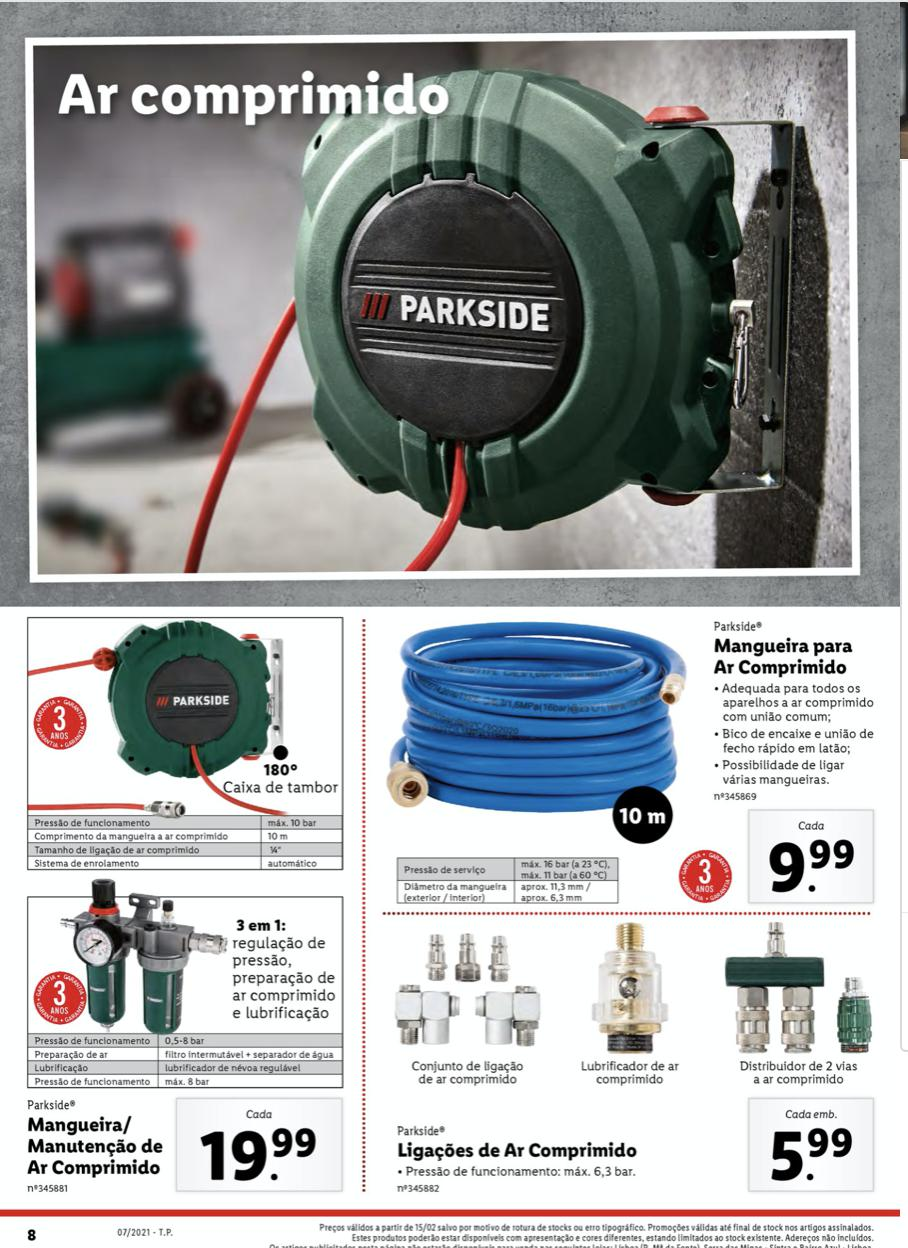name: (25, 1114, 171, 1182), (389, 1132, 646, 1166), (711, 632, 857, 679)
price: (198, 1125, 323, 1185), (769, 835, 854, 899), (769, 1121, 855, 1184)
product: (15, 614, 354, 1197), (377, 615, 886, 909), (380, 919, 897, 1202)
